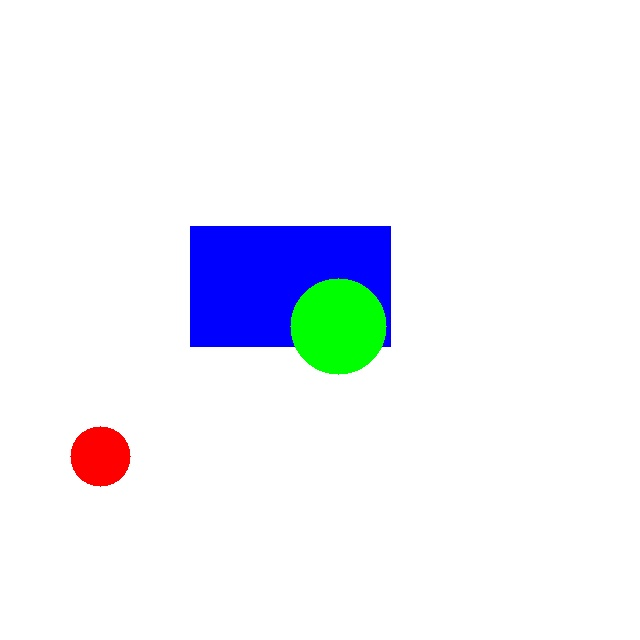cartao: (190, 226, 390, 346)
rosca_externa: (290, 278, 386, 374)
rosca_interna: (70, 426, 130, 486)
